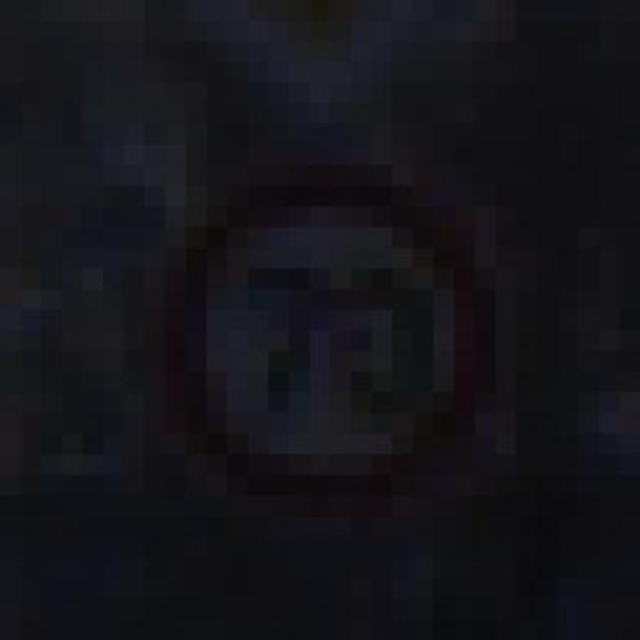forb_speed_over_70: (170, 174, 493, 498)
